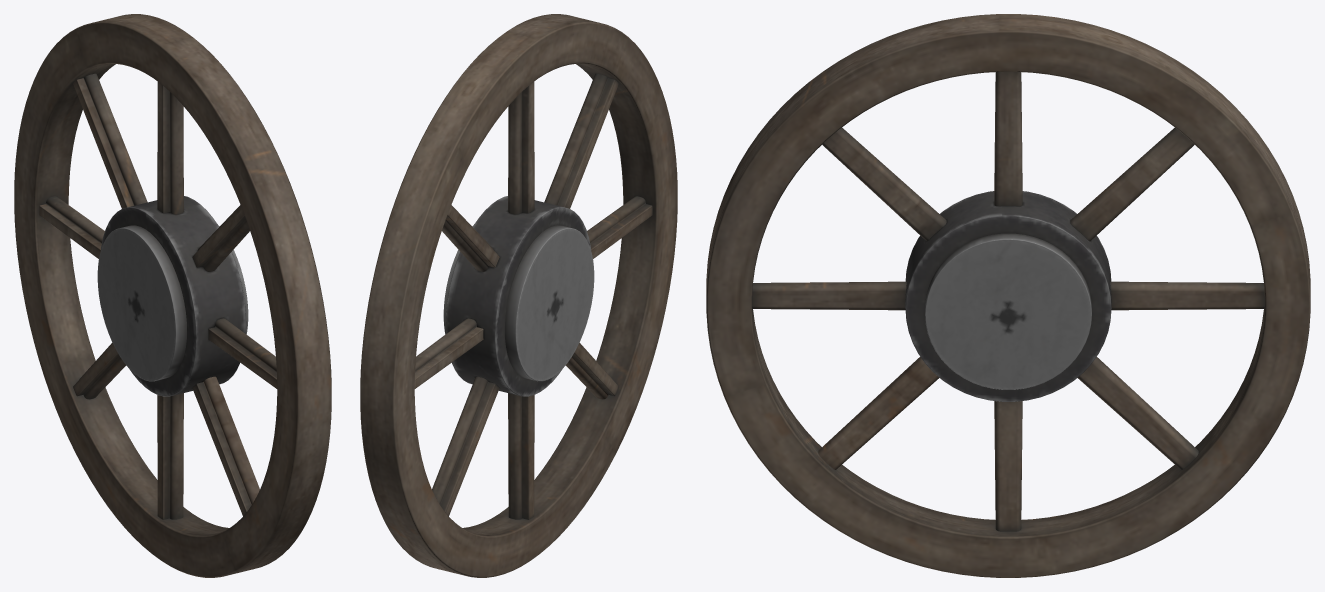
Rendered from SM_Wheel_01.fbx.
3 views of the same model, side by side, from view 1: azimuth 30°, elevation 25°; view 2: azimuth 150°, elevation 25°; view 3: azimuth 270°, elevation 25° (orthographic). The views are drawn at different scales.
Parts seen in each view (by area): view 1: SM_Wheel_01_LOD0; view 2: SM_Wheel_01_LOD0; view 3: SM_Wheel_01_LOD0.
Boxes of the visible parts, left/top/right/bottom form: SM_Wheel_01_LOD0: left=14, top=14, right=331, bottom=577; SM_Wheel_01_LOD0: left=360, top=14, right=677, bottom=577; SM_Wheel_01_LOD0: left=706, top=14, right=1310, bottom=577.
Size of the model in its own units: 17.53 by 118 by 118.
Materials: 1 (1 with a texture image).
